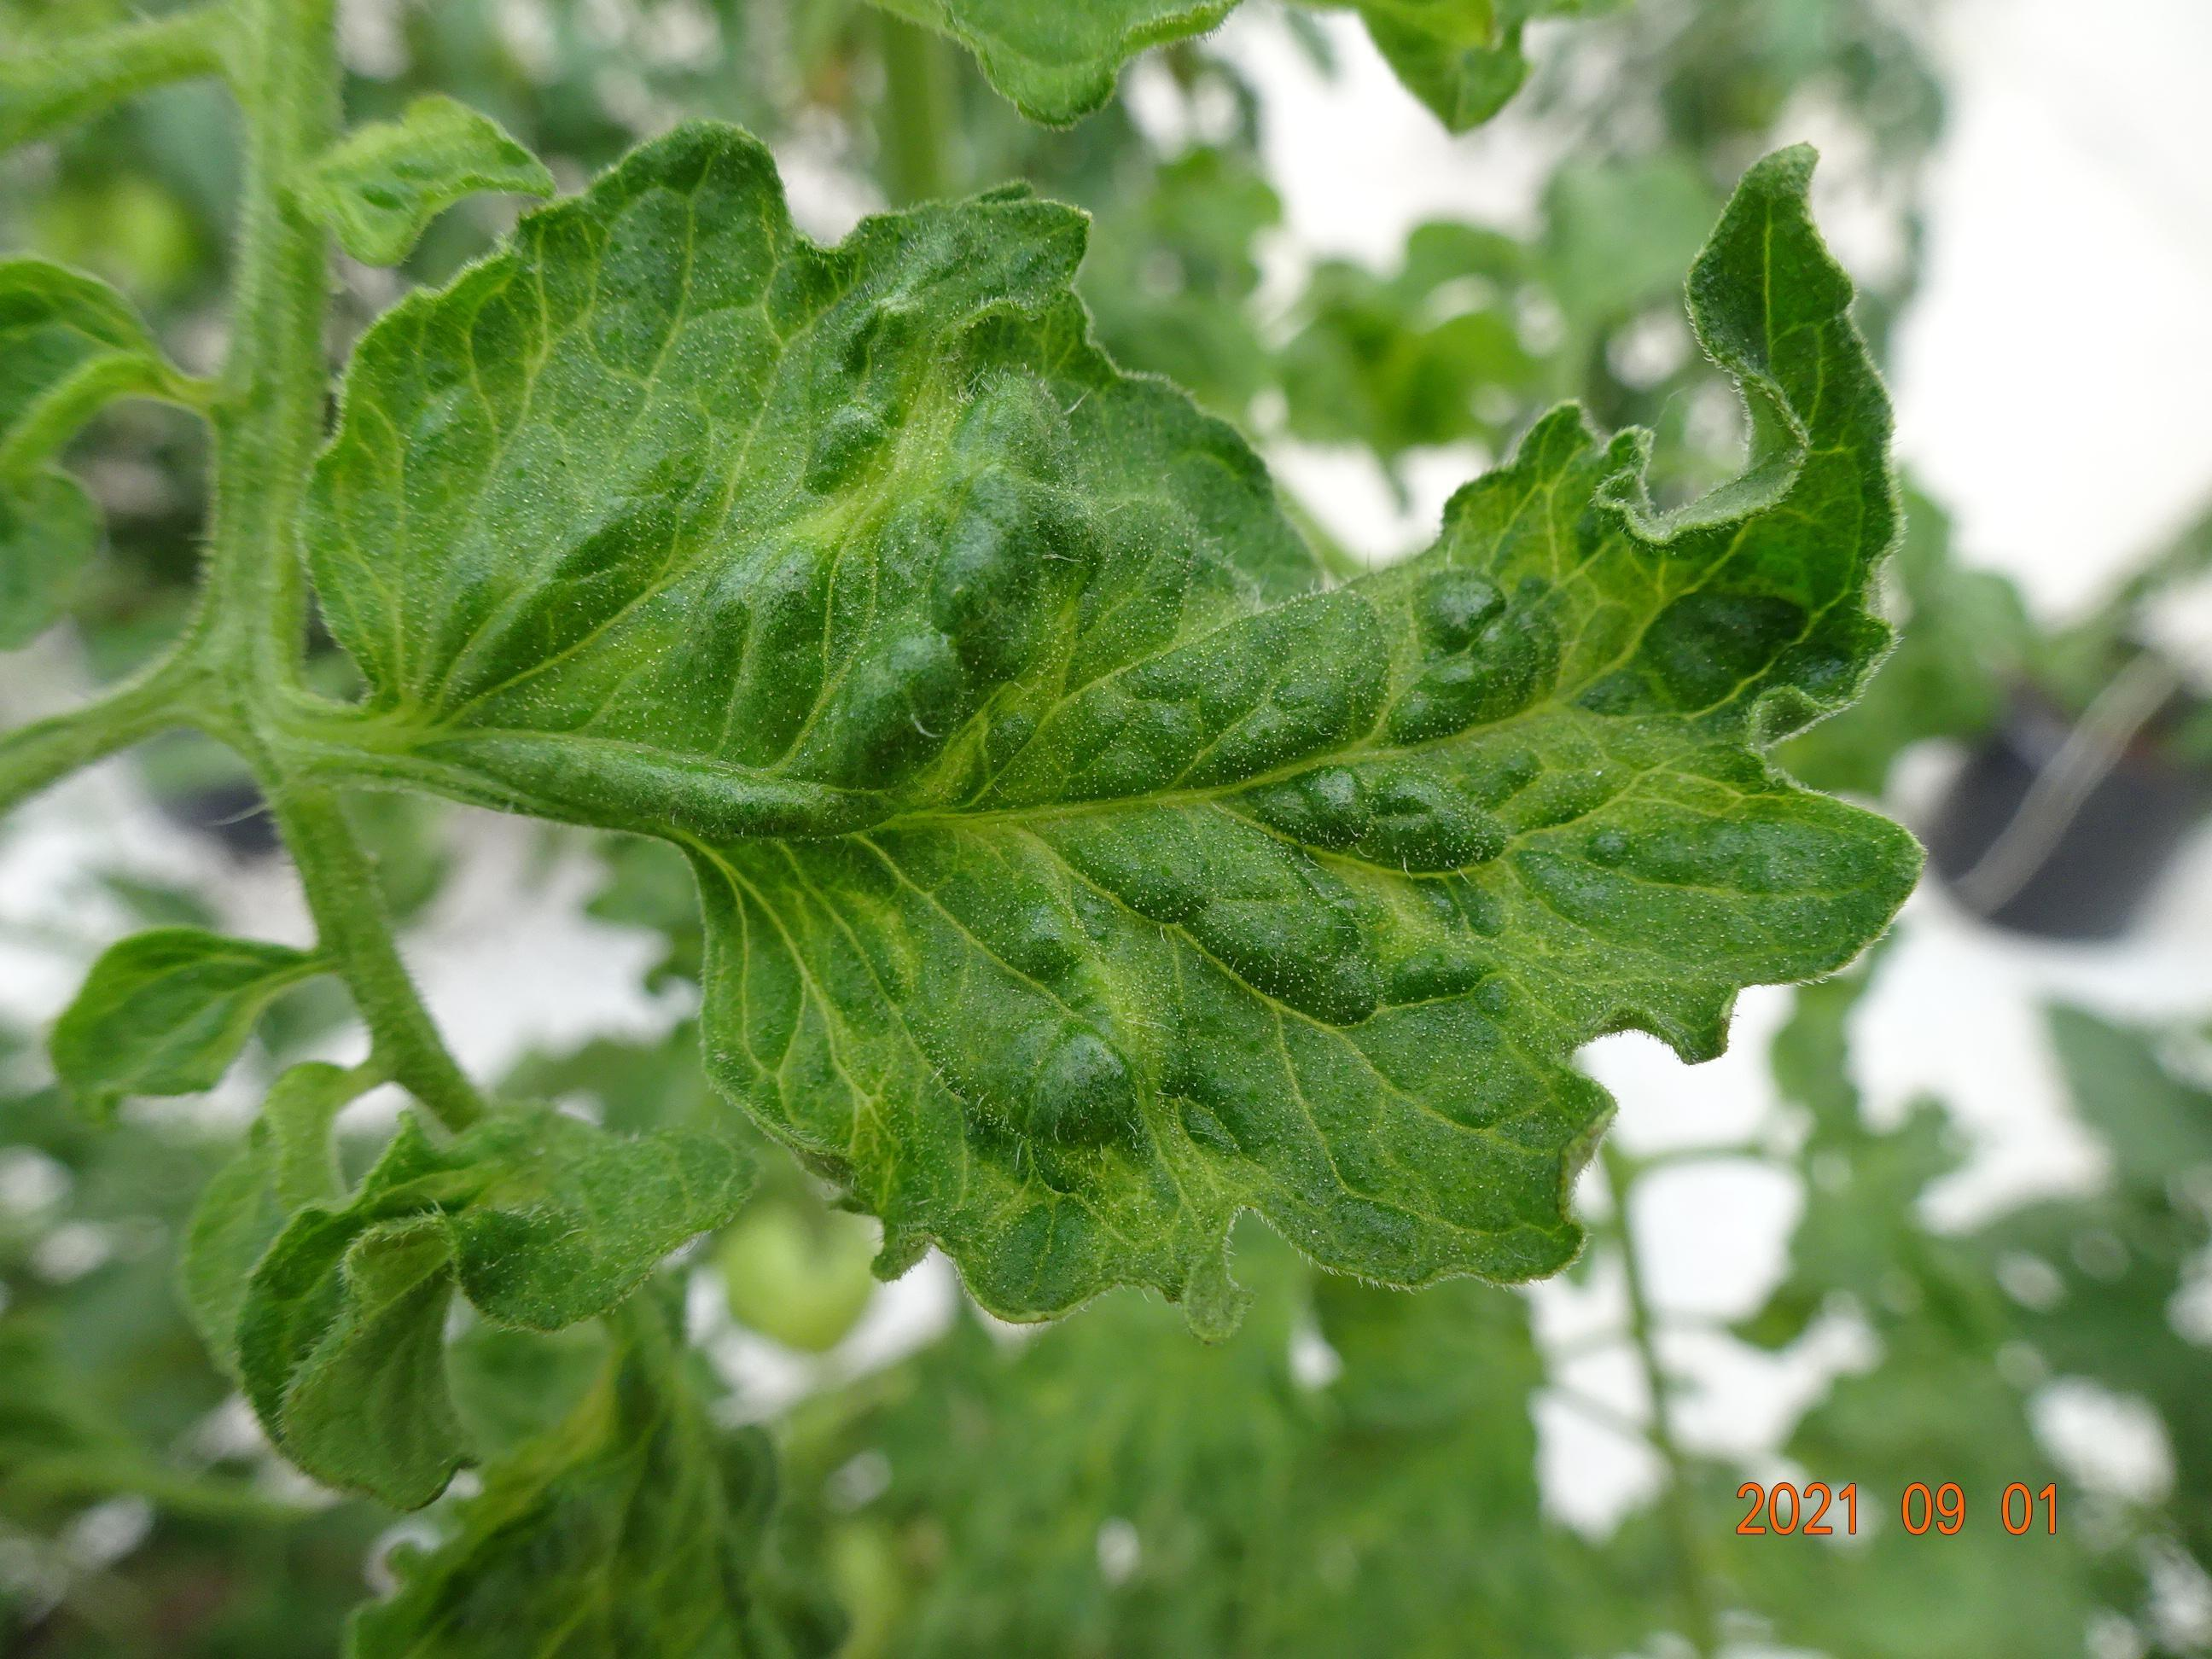Hoja rugoso: (303, 129, 1923, 1328)
